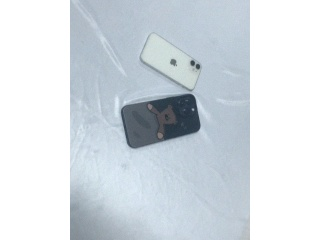phone: (122, 93, 200, 149), (139, 32, 202, 92)
